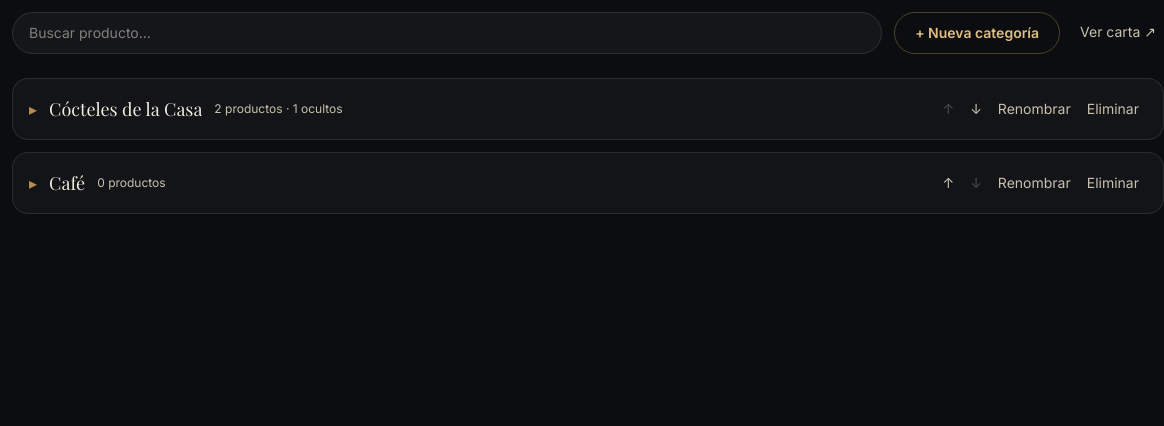
MenuEditor › lists categories with item counts, collapsed until opened
Expected: the text "2 productos · 1 ocultos" is shown, [214, 101, 343, 117]
Expected: the text "Dama de P.O.N" is not shown
Step 1. Click the text "Cócteles de la Casa" → (126, 109), box [49, 95, 202, 123]
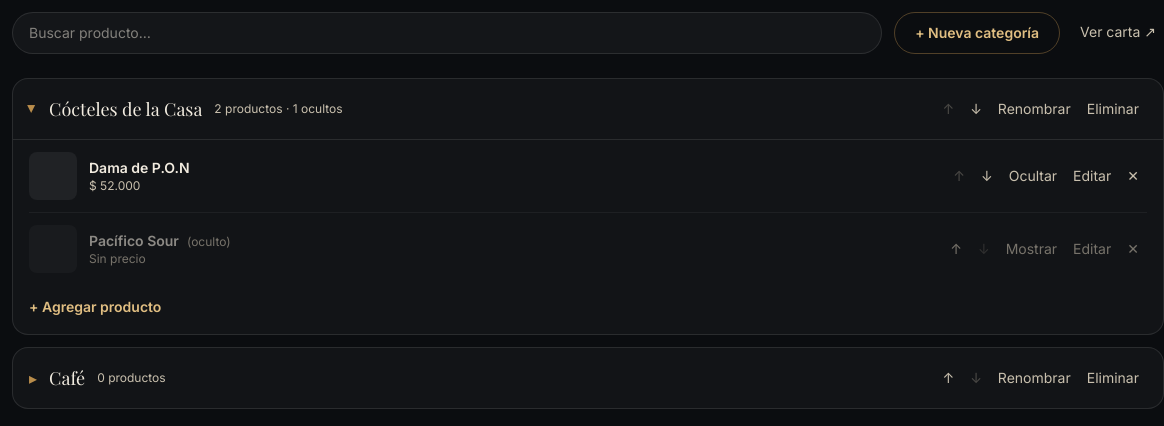
Expected: the text "Dama de P.O.N" is shown, [89, 159, 190, 176]
Expected: the text "(oculto)" is shown, [187, 234, 231, 249]
